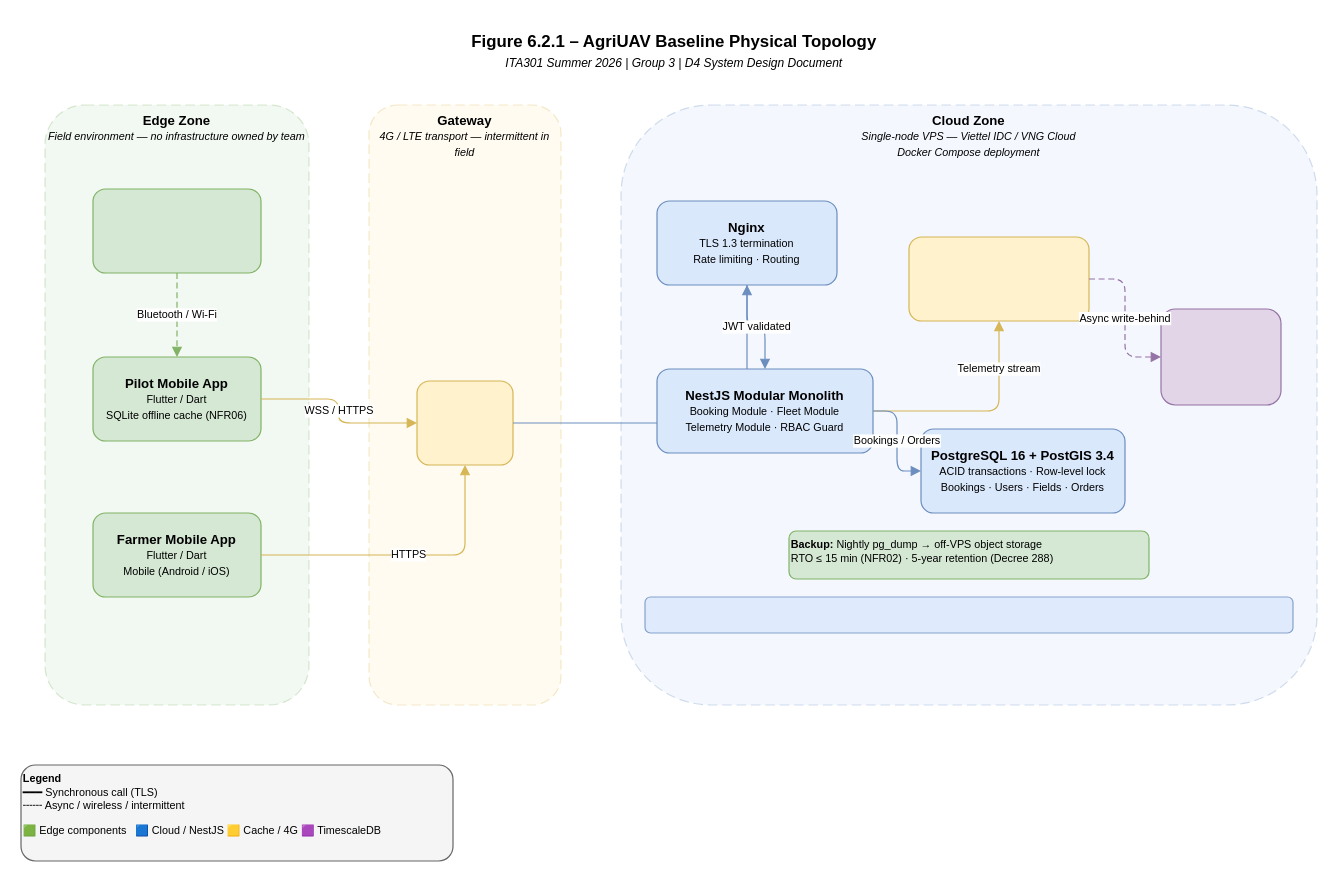
This 1338x882 diagram has some shape labels left out. The centre of each missing label's shape, as x and y in pixels:
"4G / LTE Intermittent link Mobile proxy" goes at point (464, 422).
"Docker Compose — all cloud services co-located on single VPS" goes at point (968, 614).
"Drone (UAV) Captures telemetry & GPS No direct network stack" goes at point (176, 230).
"Redis Stack In-memory telemetry buffer Write-behind to TimescaleDB" goes at point (998, 278).
"TimescaleDB 2.x Time-series telemetry 5-year retention (Decree 288)" goes at point (1220, 356).
